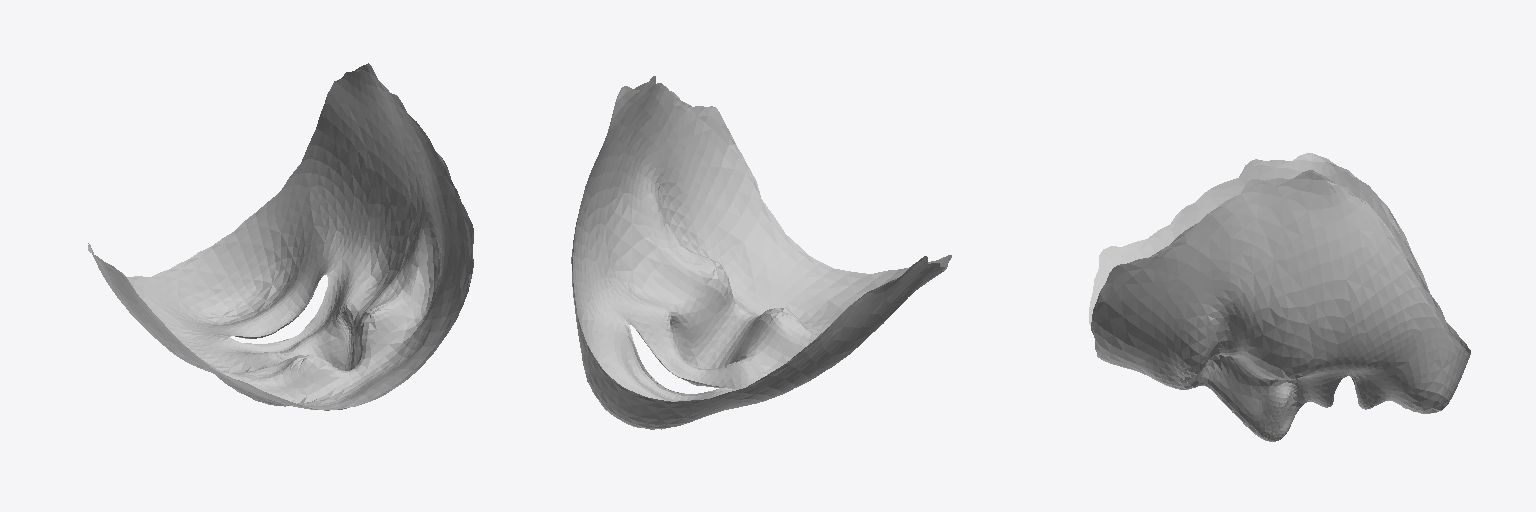
Rendered from face_gab_sfm14.obj.
The picture shows the model from 3 angles: view 1: azimuth 30°, elevation 25°; view 2: azimuth 150°, elevation 25°; view 3: azimuth 270°, elevation 25°; orthographic projection.
Size of the model in its own units: 163 by 154 by 179.